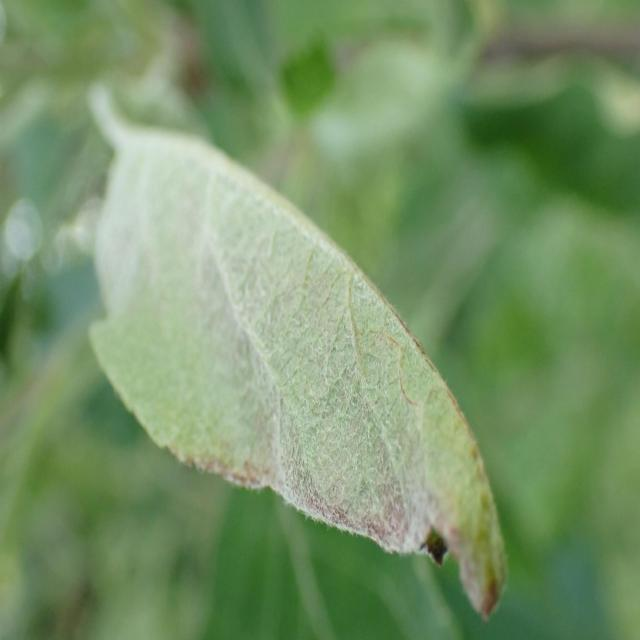Powdery_mildew: (74, 98, 510, 623)
